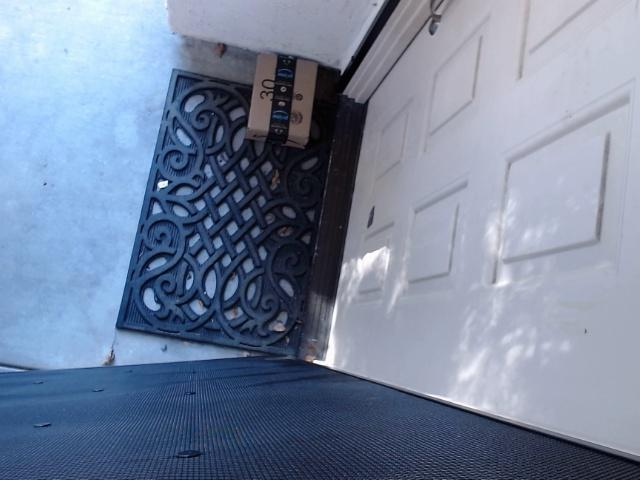box: (208, 30, 331, 157)
